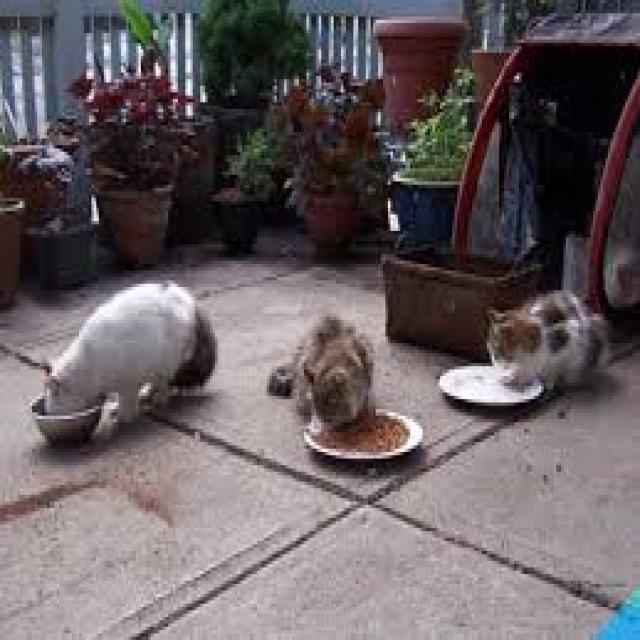cat: (37, 282, 216, 440), (267, 315, 374, 430), (490, 292, 593, 388)
